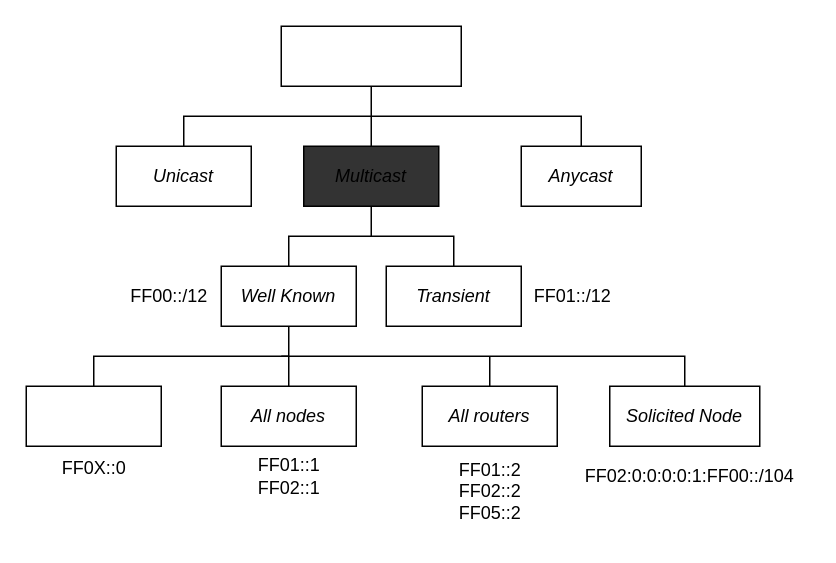
Image size: 836x563. Some labels were removed from this diagram. The shapes that lost their labels are listed below. From the top down, each one's centre as x and y in pixels, then its label:
At (370,55): "Dirección IPv6".
At (93,415): "Reserved".
